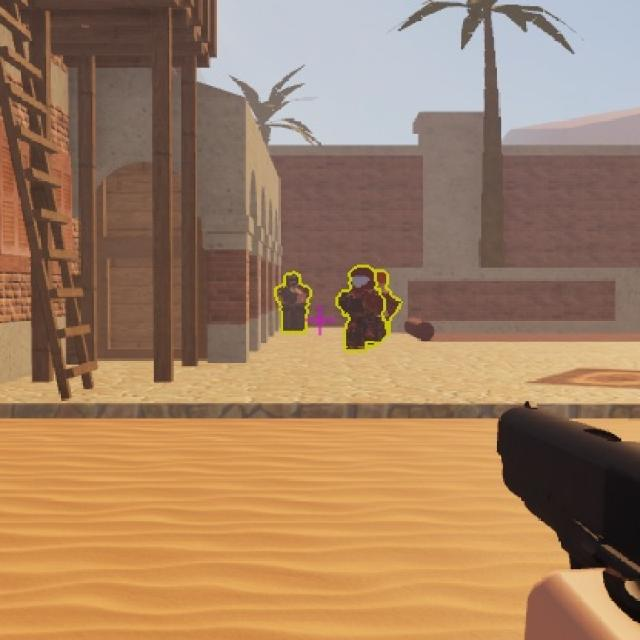player: (336, 266, 380, 357), (284, 266, 308, 333)
